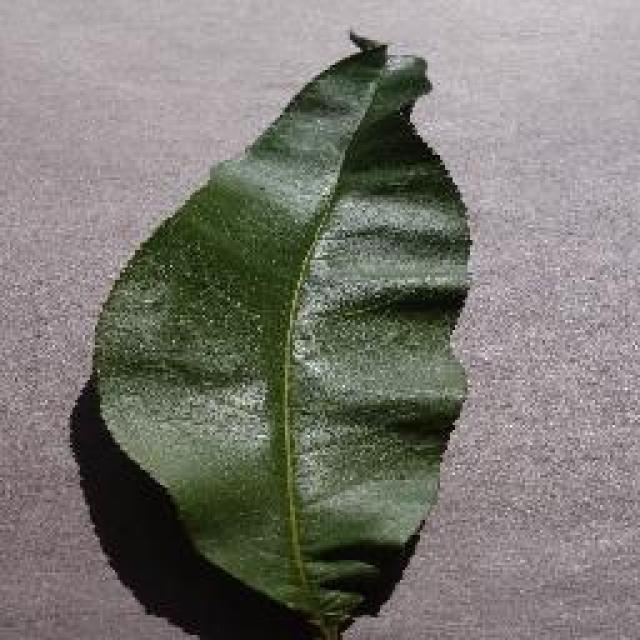Pea_healthy: (114, 96, 474, 534)
